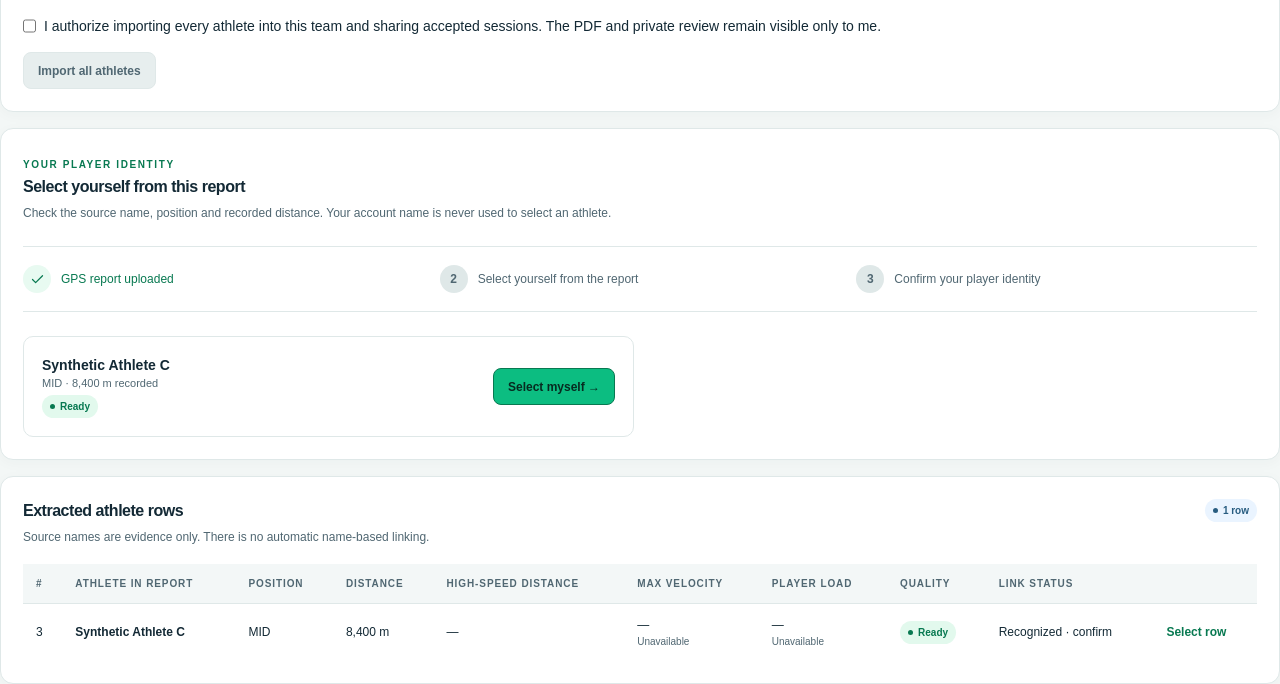
Scenario: uploader review flow › defaults a recognized team row to its confirmed player
(page scrolled)
Step 1. Click the button "Select row" → (1196, 632), box [1166,623,1226,641]
(page scrolled)
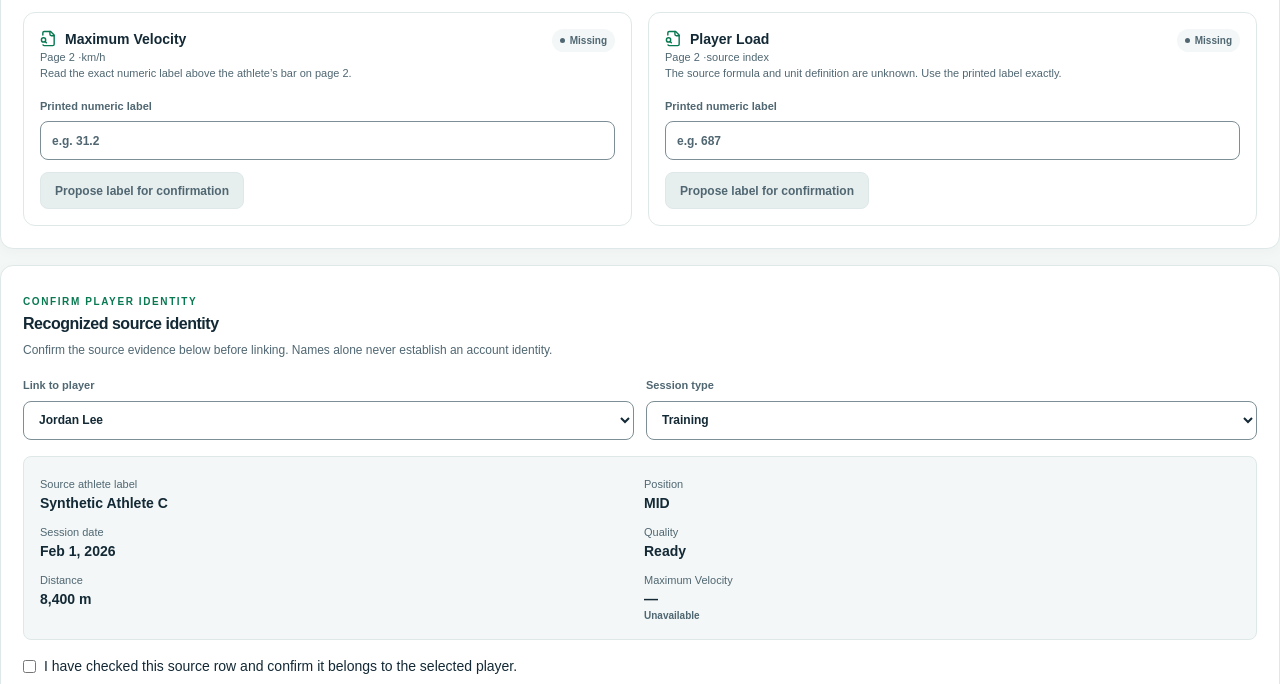
Check: the dropdown labelled "Link to player" shows "Jordan Lee", box [23,401,634,440]
Check: the heading "Recognized source identity" is shown, box [23,315,219,332]
